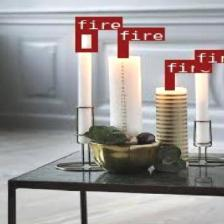fire: (75, 29, 95, 51), (194, 49, 208, 69), (117, 40, 127, 57), (164, 73, 174, 89)
